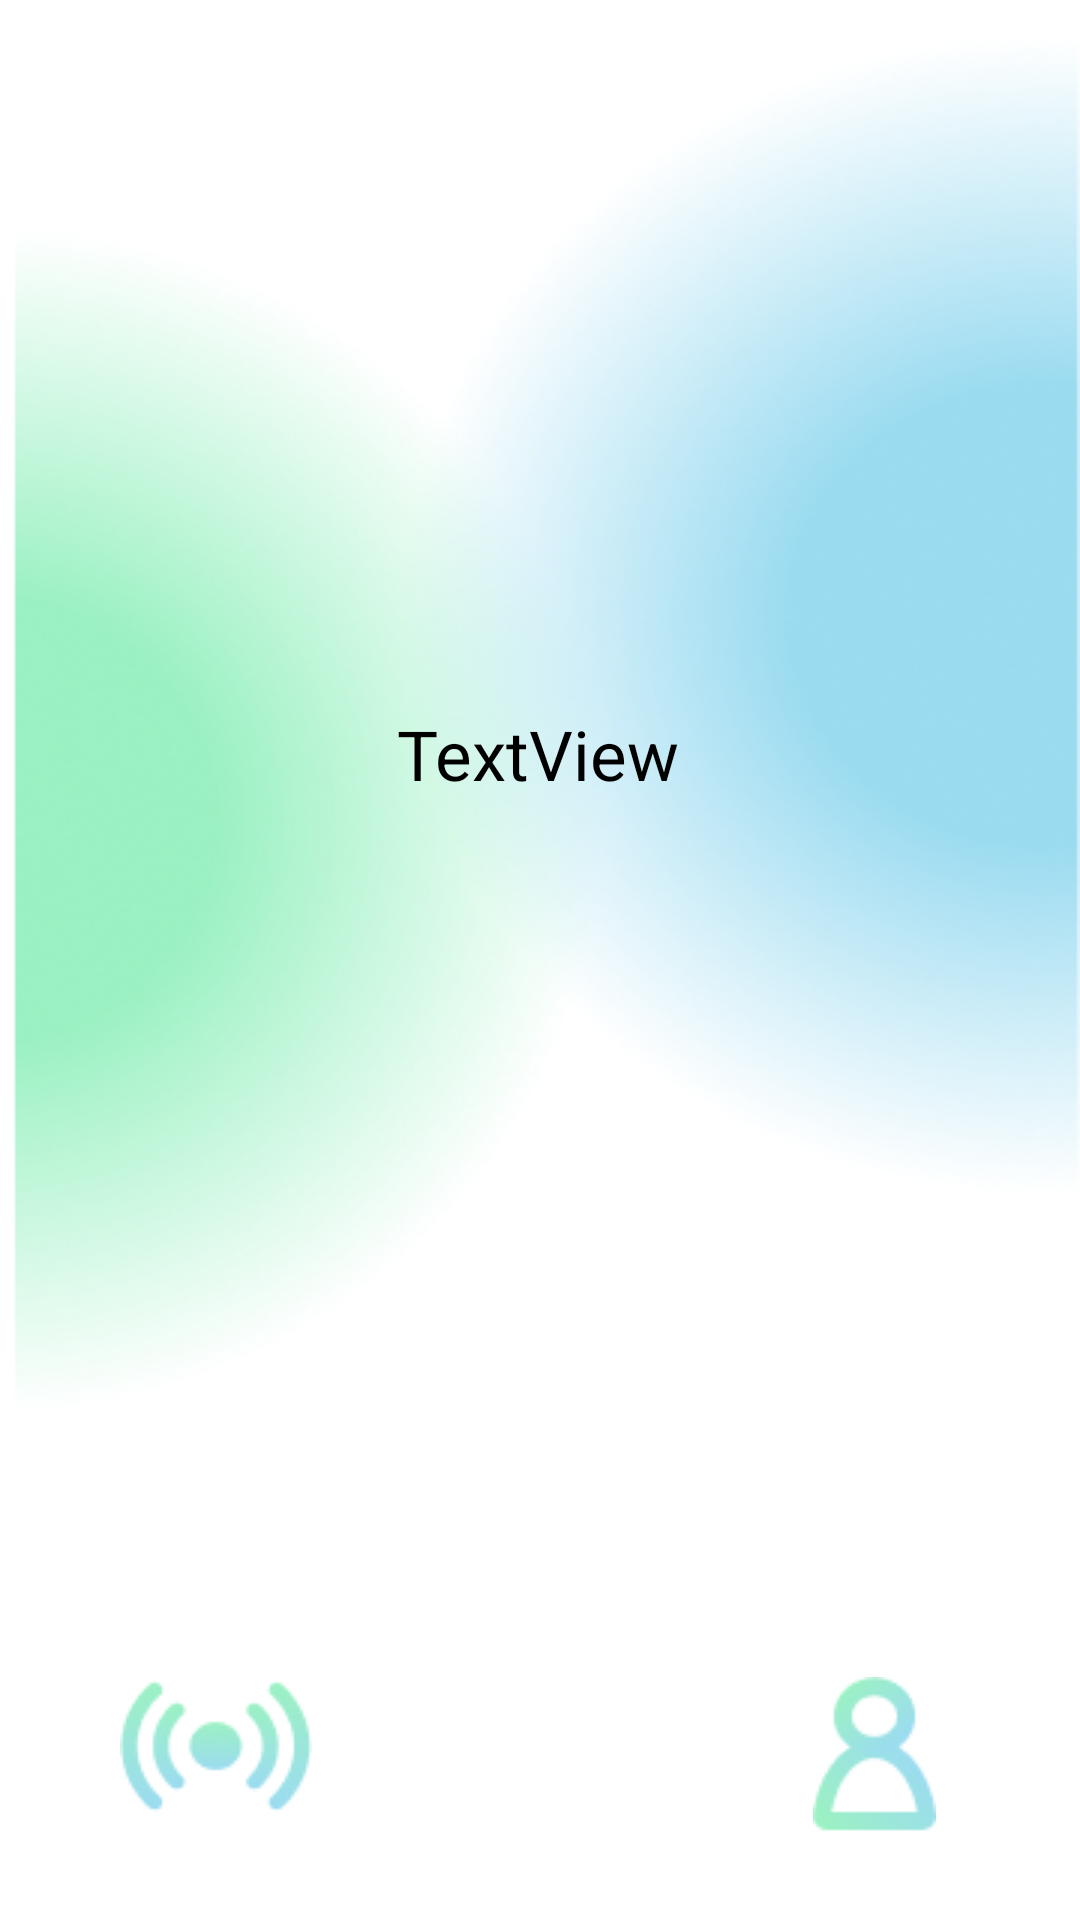

Point at icon controls on the screen. Image size 1080x1920, points as [x,y].
profile: [874,1754]
